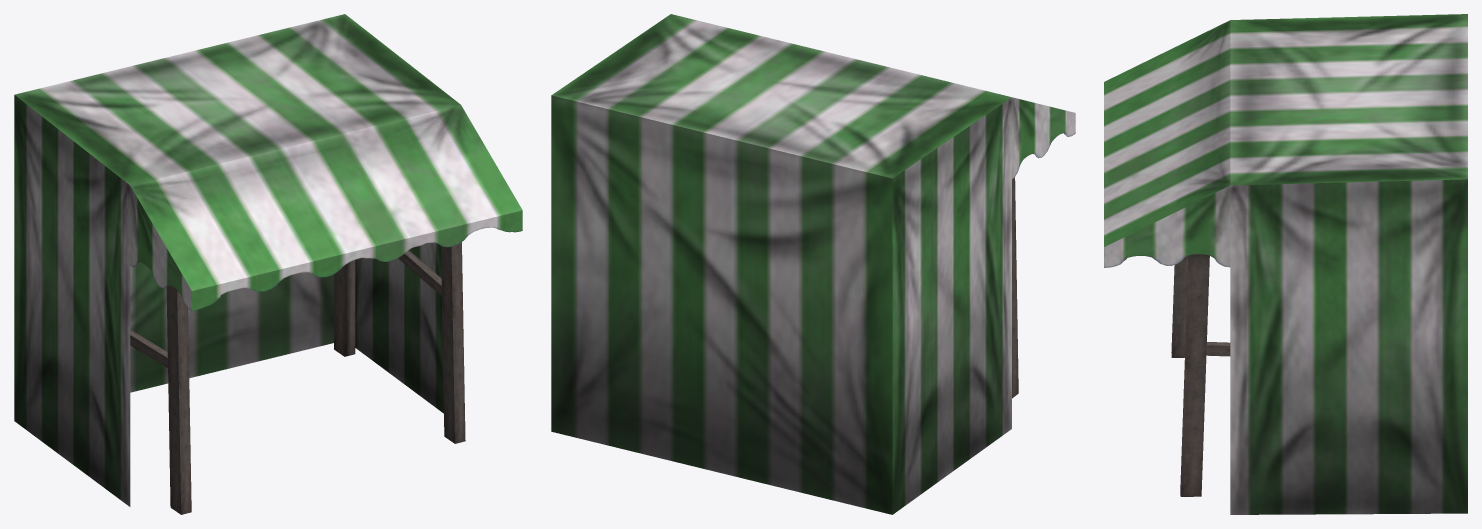
File: green_cheonmak.FBX
3 views of the same model, side by side, from view 1: azimuth 30°, elevation 25°; view 2: azimuth 150°, elevation 25°; view 3: azimuth 270°, elevation 25° (orthographic). The views are drawn at different scales.
Parts seen in each view (by area): view 1: Object005, Object007, Object010, Object014, Object013, Object001, polySurface21, polySurface20, Object008, polySurface19, Object004, Object009 (+3 smaller); view 2: Object014, Object007, Object010, Object008, Object004, Object009, polySurface21, Object003; view 3: Object013, Object007, Object005, Object011, polySurface20, Object006, Object012, Object002, polySurface21.
Part boxes in pixels (x1,y1,x2,y2): Object005: (130, 105, 522, 290); Object007: (14, 14, 460, 185); Object010: (14, 95, 130, 506); Object014: (130, 262, 333, 392); Object013: (355, 242, 443, 413); Object001: (192, 210, 522, 310); polySurface21: (166, 286, 191, 514); polySurface20: (441, 242, 465, 443); Object008: (15, 95, 130, 242); polySurface19: (334, 260, 355, 356); Object004: (130, 186, 191, 290); Object009: (16, 97, 130, 270); Object014: (551, 95, 892, 514); Object007: (552, 14, 1011, 178); Object010: (892, 178, 1011, 514); Object008: (893, 97, 1011, 178); Object004: (1012, 97, 1074, 155); Object009: (893, 156, 1011, 185); polySurface21: (1012, 177, 1018, 398); Object003: (1012, 113, 1075, 179); Object013: (1230, 179, 1467, 514); Object007: (1230, 14, 1467, 185); Object005: (1104, 20, 1230, 246); Object011: (1230, 179, 1466, 243); polySurface20: (1180, 254, 1209, 496); Object006: (1104, 186, 1230, 247); Object012: (1230, 179, 1466, 273); Object002: (1104, 244, 1230, 267); polySurface21: (1171, 256, 1188, 357).
Bounding box in the file's own units: 31.07 × 29.44 × 28.88.
